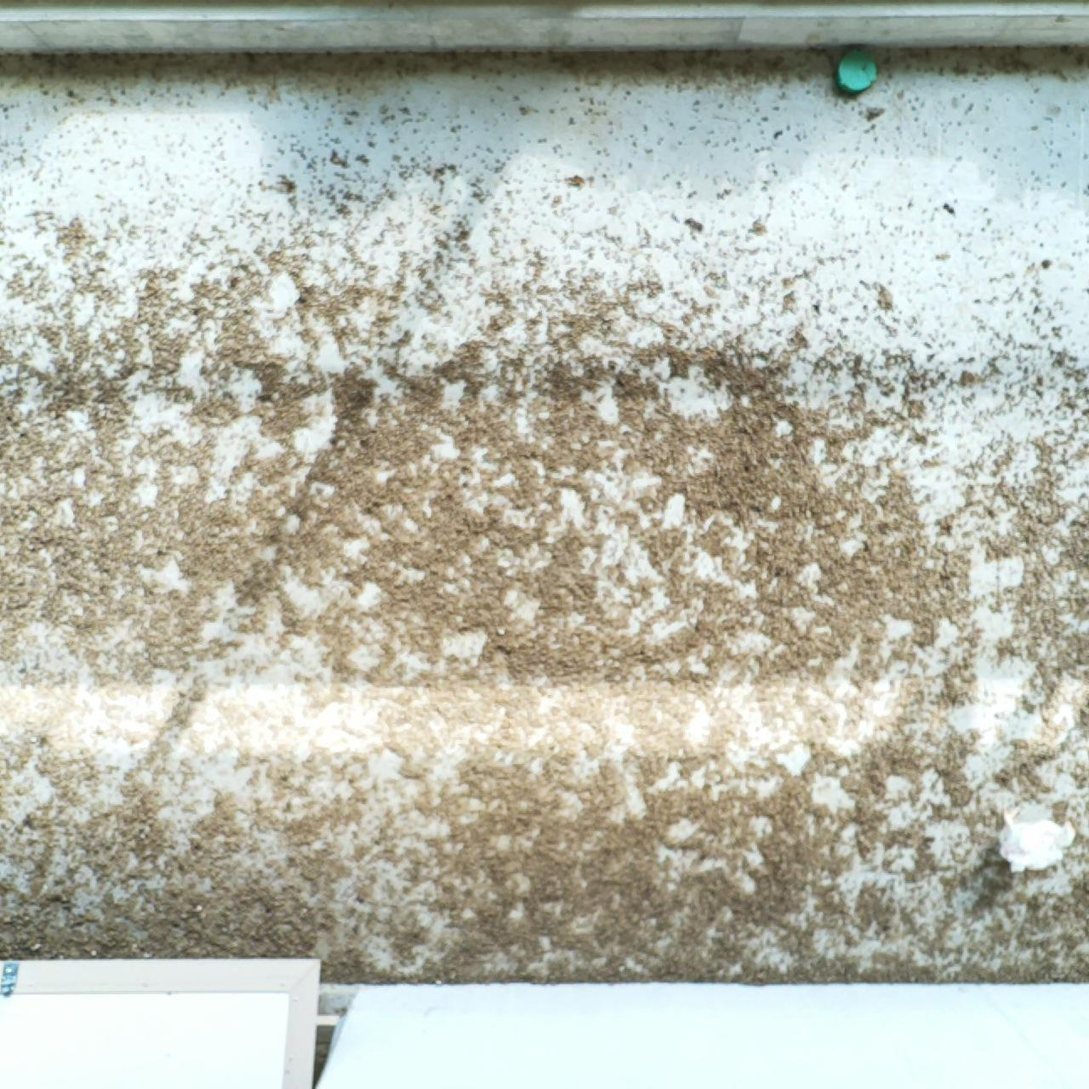chicken: (993, 798, 1080, 878)
